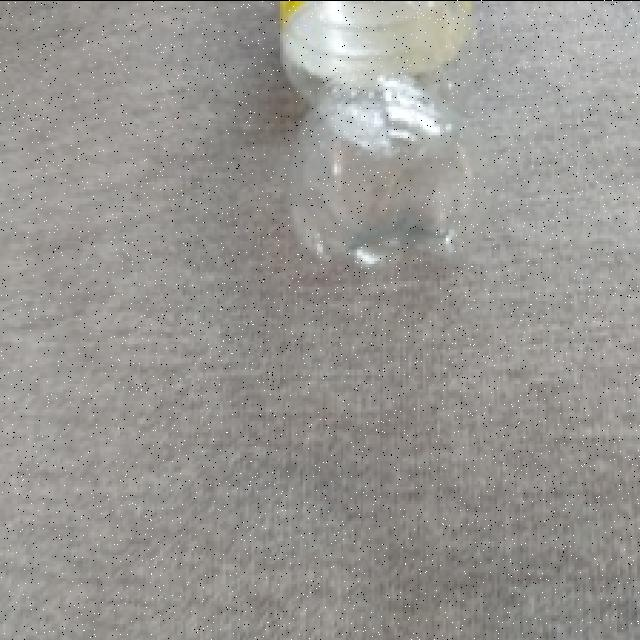plastic: (266, 0, 470, 266)
